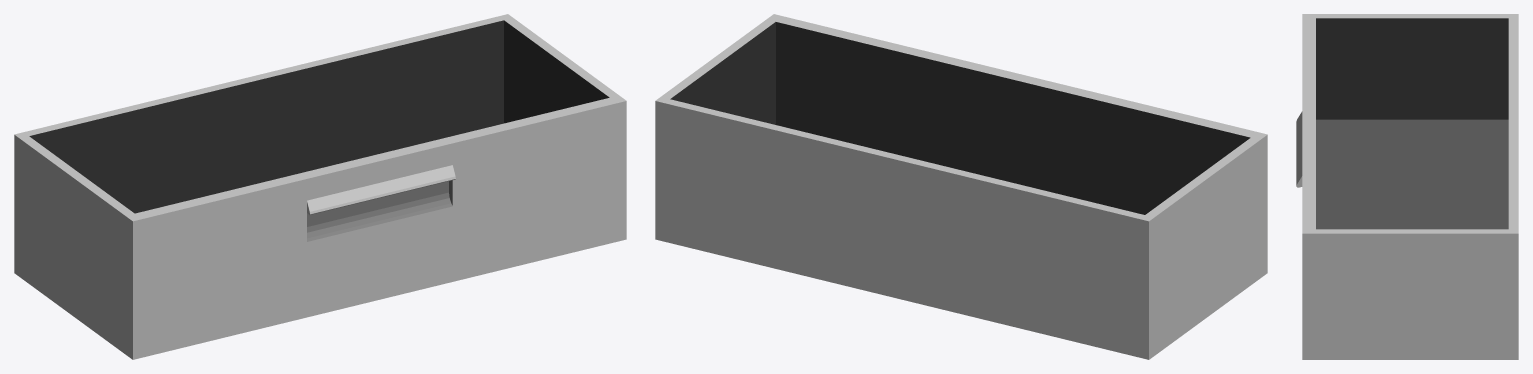
Rendered from desk-drawer-1.glb.
3 renders of one model, left to right at view 1: azimuth 30°, elevation 25°; view 2: azimuth 150°, elevation 25°; view 3: azimuth 270°, elevation 25°, orthographic. The views are drawn at different scales.
Visible parts, largest first — view 1: Desk_Drawer_1; view 2: Desk_Drawer_1; view 3: Desk_Drawer_1.
Part boxes in pixels (box(x1,y1,x2,y2)): Desk_Drawer_1: box(14, 14, 626, 359); Desk_Drawer_1: box(655, 14, 1267, 359); Desk_Drawer_1: box(1296, 14, 1518, 359).
Bounding box in the file's own units: 88.81 × 23.81 × 37.96.
Materials: 1 (1 with a texture image).
